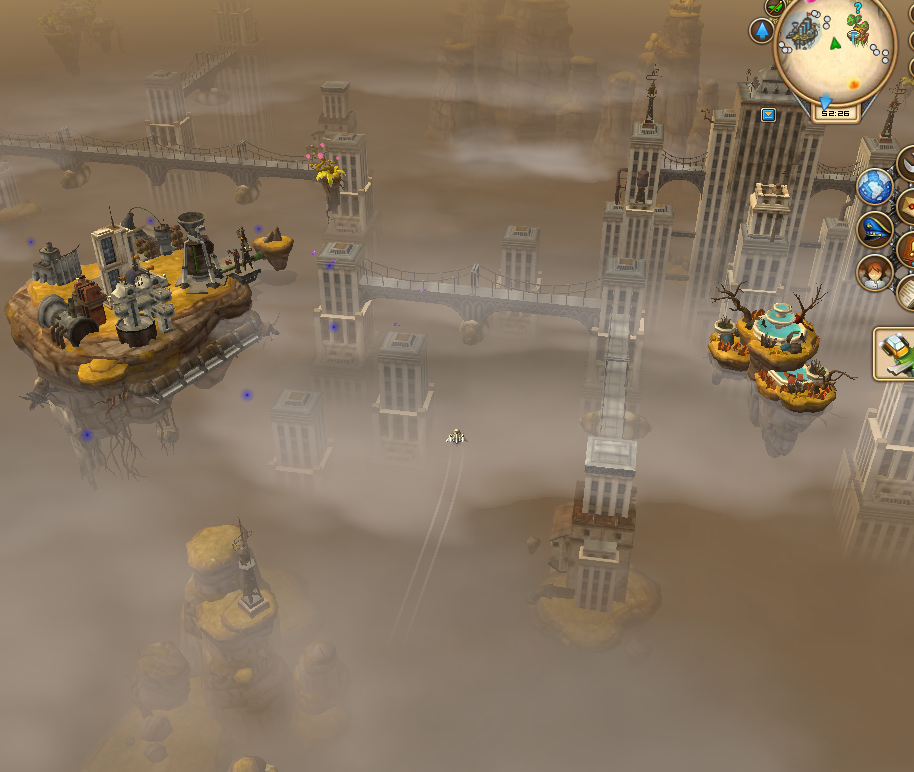dandelion-full: (307, 136, 347, 207)
